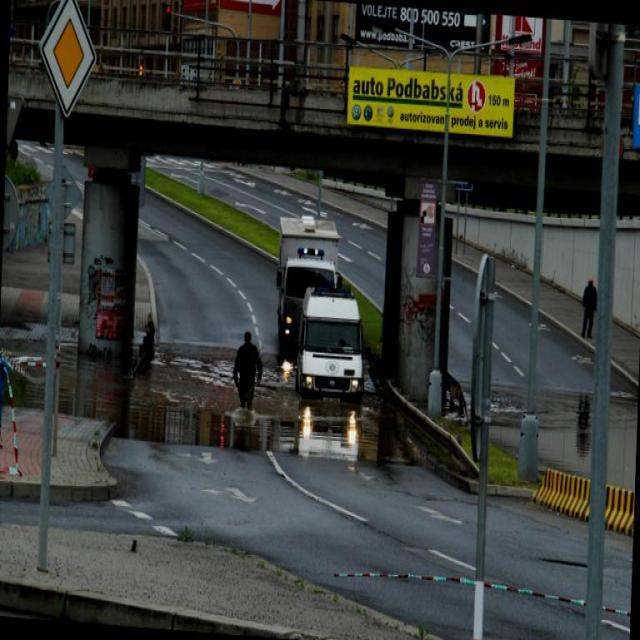flood: (0, 332, 397, 465)
